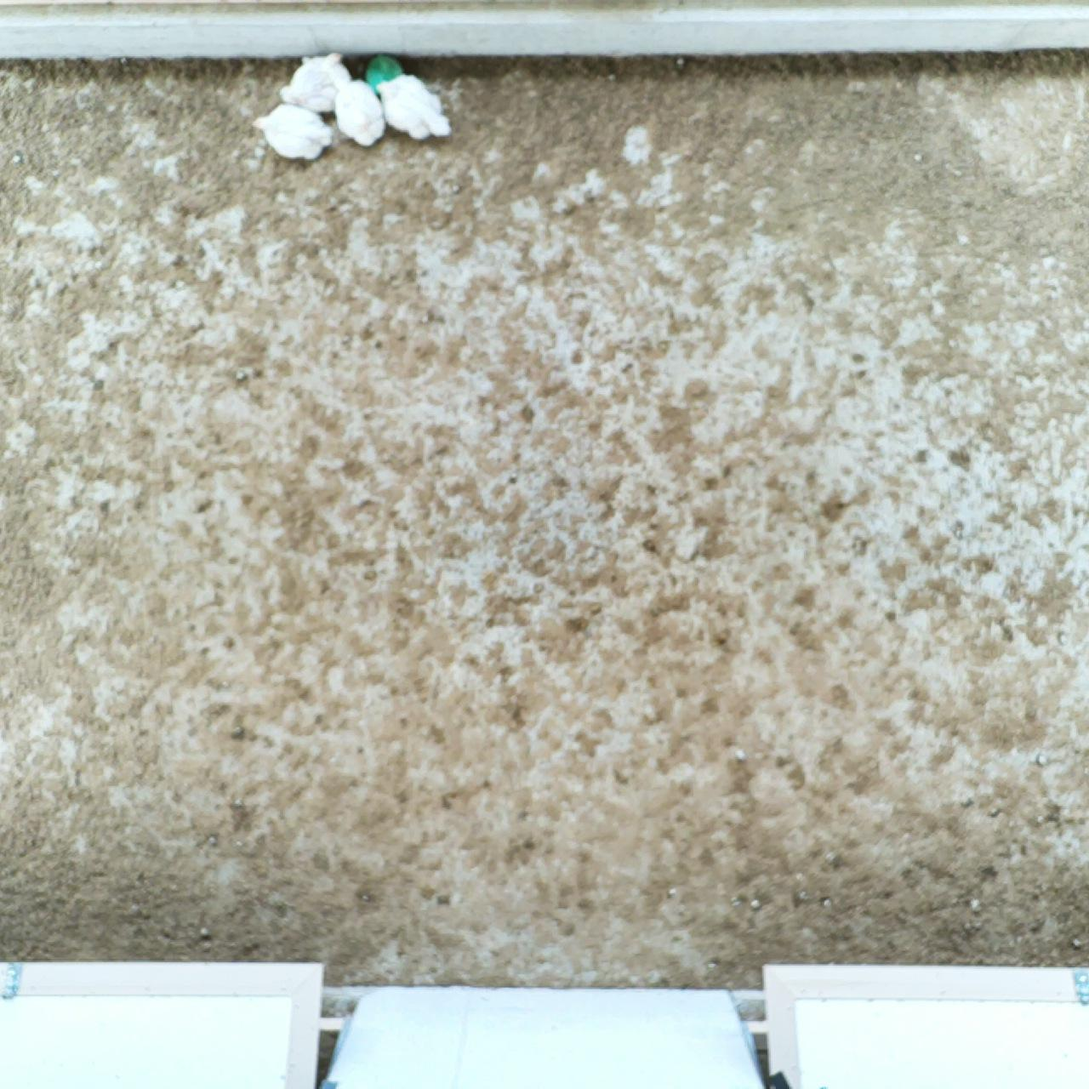chicken: (374, 66, 455, 146), (251, 98, 339, 161), (278, 46, 355, 115), (332, 77, 388, 151)
